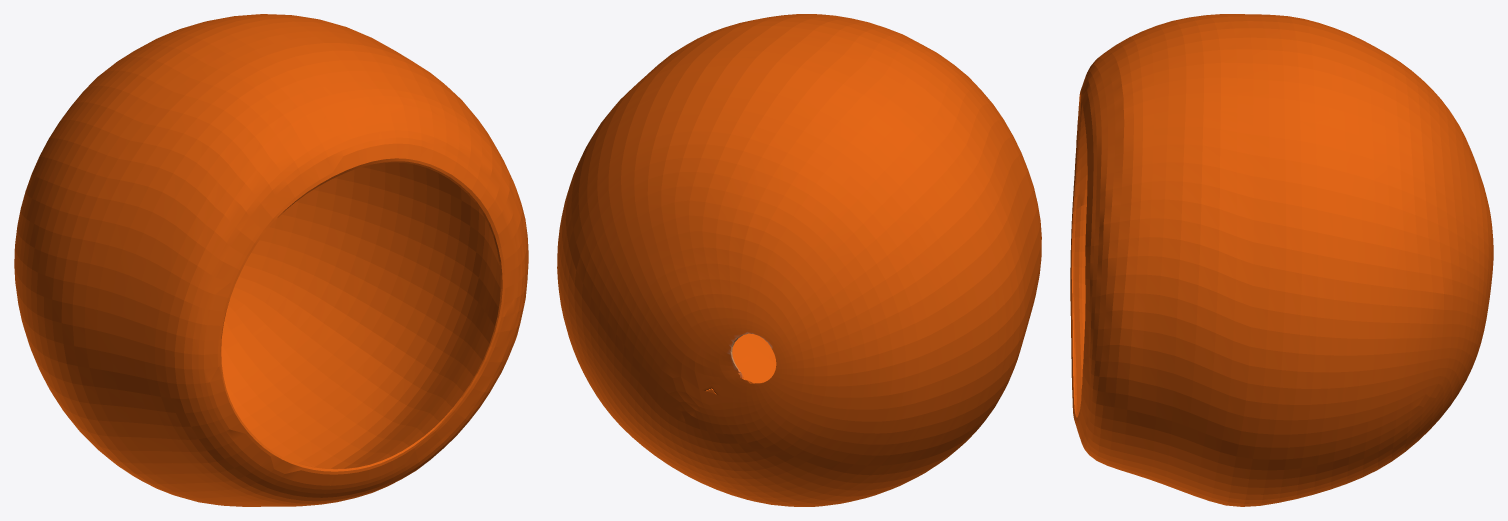
File: frau2-72.glb
3 renders of one model, left to right at view 1: azimuth 30°, elevation 25°; view 2: azimuth 150°, elevation 25°; view 3: azimuth 270°, elevation 25°, orthographic. The views are drawn at different scales.
Parts seen in each view (by area): view 1: VH_F_optic_choroid_L; view 2: VH_F_optic_choroid_L; view 3: VH_F_optic_choroid_L.
Boxes of the visible parts, bbox=[...] form: VH_F_optic_choroid_L: bbox=[14, 14, 528, 506]; VH_F_optic_choroid_L: bbox=[557, 14, 1041, 506]; VH_F_optic_choroid_L: bbox=[1070, 14, 1493, 506].
Bounding box in the file's own units: 0.0224 × 0.0223 × 0.0191.
